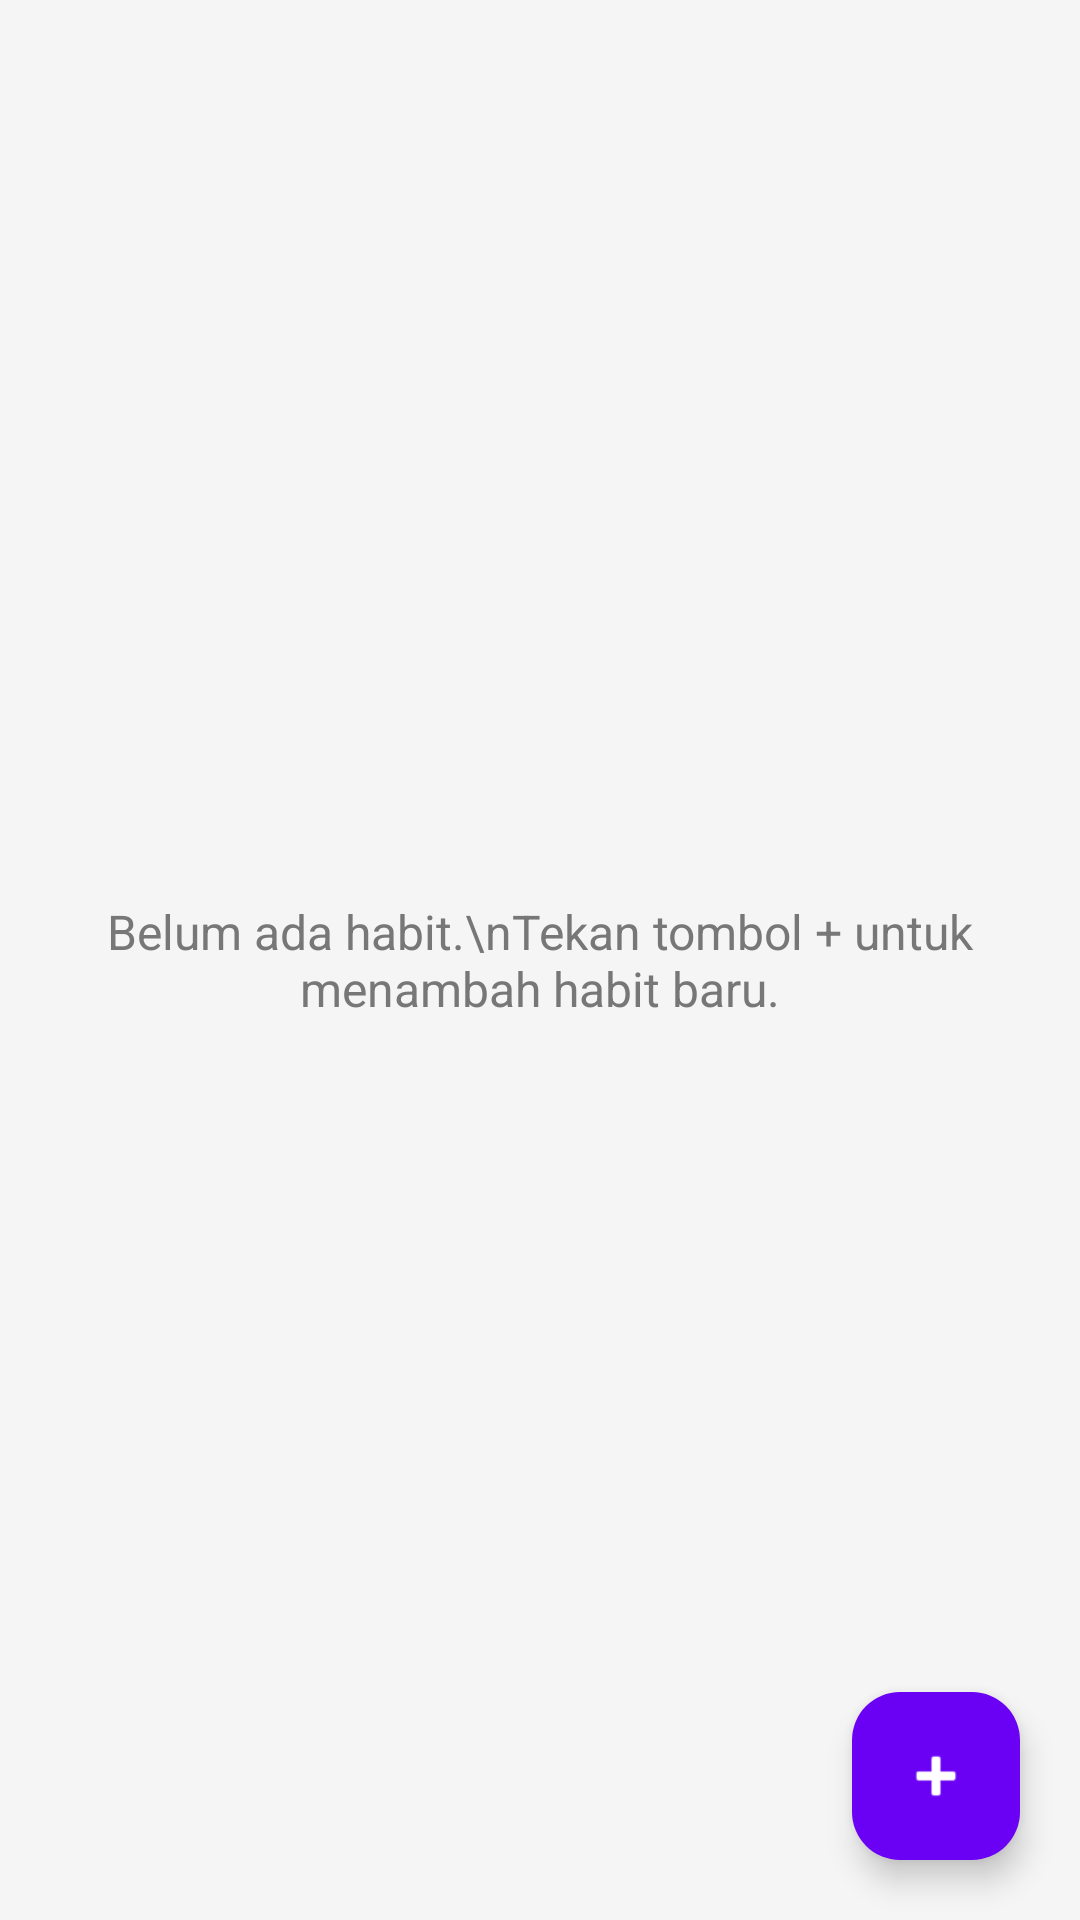

Locate icon controls on the screen. Image size 1080*1920, boxes as (x1, y1, x2, y2).
Add Habit: (852, 1692, 1020, 1860)
